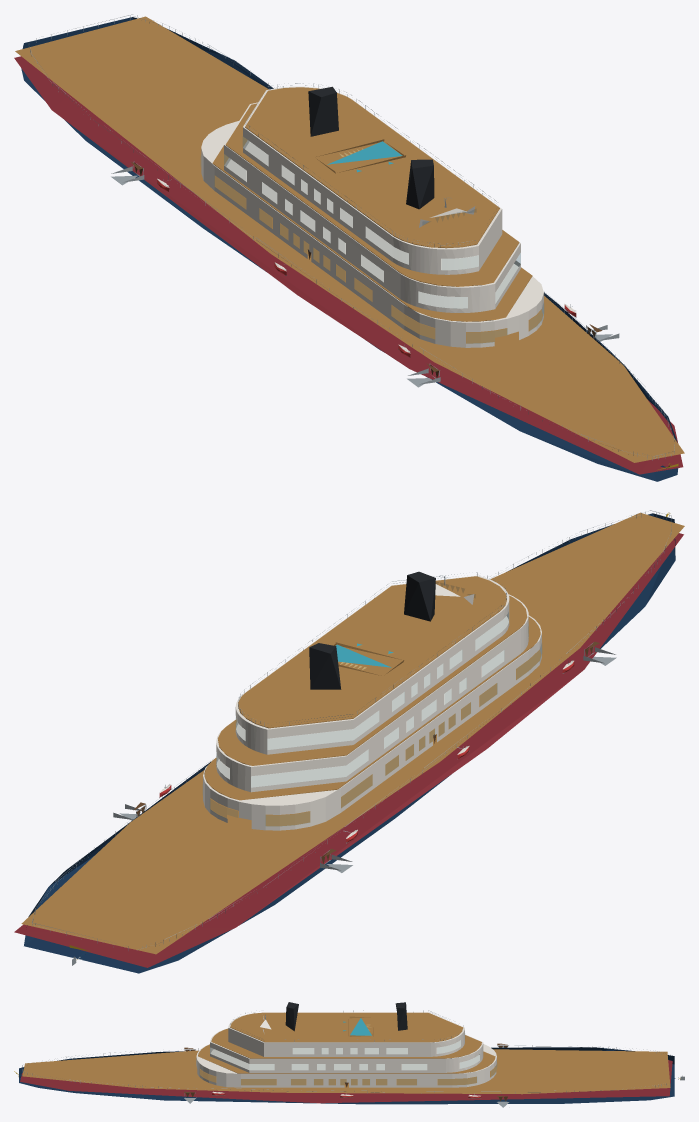
File: 169-Crucero_exterior.glb
The picture shows the model from 3 angles, top to bottom: view 1: azimuth 30°, elevation 25°; view 2: azimuth 150°, elevation 25°; view 3: azimuth 270°, elevation 25°; orthographic projection. The views are drawn at different scales.
Parts seen in each view (by area): view 1: SM_Crucero_Cubierta_1, SM_Crucero_Cubierta_4, SM_Crucero_Franja, SM_Crucero_Nivel_1, SM_Crucero_Nivel_2, SM_Crucero_Nivel_3, SM_Crucero_Casco, SM_Crucero_Cubierta_3, SM_Crucero_Cubierta_2, SM_Crucero_Ventanas_1, SM_Crucero_Ventanas_2, SM_Crucero_Ventanas_3 (+4 smaller); view 2: SM_Crucero_Cubierta_1, SM_Crucero_Cubierta_4, SM_Crucero_Franja, SM_Crucero_Nivel_2, SM_Crucero_Nivel_3, SM_Crucero_Nivel_1, SM_Crucero_Casco, SM_Crucero_Cubierta_3, SM_Crucero_Cubierta_2, SM_Crucero_Ventanas_2, SM_Crucero_Ventanas_3, SM_Crucero_Ventanas_1 (+3 smaller); view 3: SM_Crucero_Cubierta_1, SM_Crucero_Cubierta_4, SM_Crucero_Franja, SM_Crucero_Nivel_2, SM_Crucero_Nivel_1, SM_Crucero_Nivel_3, SM_Crucero_Casco, SM_Crucero_Cubierta_3, SM_Crucero_Ventanas_1, SM_Crucero_Ventanas_2, SM_Crucero_Cubierta_2, SM_Crucero_Ventanas_3 (+4 smaller).
Boxes of the visible parts, left/top/right/bottom form: SM_Crucero_Cubierta_1: left=15, top=16, right=684, bottom=462; SM_Crucero_Cubierta_4: left=245, top=87, right=499, bottom=248; SM_Crucero_Franja: left=14, top=56, right=683, bottom=474; SM_Crucero_Nivel_1: left=201, top=121, right=543, bottom=347; SM_Crucero_Nivel_2: left=224, top=102, right=520, bottom=312; SM_Crucero_Nivel_3: left=243, top=86, right=502, bottom=274; SM_Crucero_Casco: left=21, top=17, right=678, bottom=481; SM_Crucero_Cubierta_3: left=225, top=103, right=519, bottom=286; SM_Crucero_Cubierta_2: left=212, top=145, right=532, bottom=321; SM_Crucero_Ventanas_1: left=214, top=176, right=543, bottom=343; SM_Crucero_Ventanas_2: left=224, top=154, right=520, bottom=307; SM_Crucero_Ventanas_3: left=243, top=137, right=478, bottom=269; SM_Crucero_Cubierta_1: left=21, top=512, right=684, bottom=954; SM_Crucero_Cubierta_4: left=238, top=576, right=506, bottom=728; SM_Crucero_Franja: left=14, top=533, right=683, bottom=967; SM_Crucero_Nivel_2: left=216, top=594, right=528, bottom=792; SM_Crucero_Nivel_3: left=235, top=575, right=509, bottom=754; SM_Crucero_Nivel_1: left=203, top=615, right=541, bottom=830; SM_Crucero_Casco: left=24, top=513, right=675, bottom=973; SM_Crucero_Cubierta_3: left=218, top=595, right=527, bottom=765; SM_Crucero_Cubierta_2: left=204, top=616, right=540, bottom=800; SM_Crucero_Ventanas_2: left=216, top=626, right=528, bottom=786; SM_Crucero_Ventanas_3: left=236, top=613, right=508, bottom=749; SM_Crucero_Ventanas_1: left=210, top=646, right=541, bottom=825; SM_Crucero_Cubierta_1: left=22, top=1049, right=670, bottom=1094; SM_Crucero_Cubierta_4: left=230, top=1012, right=463, bottom=1042; SM_Crucero_Franja: left=20, top=1060, right=672, bottom=1103; SM_Crucero_Nivel_2: left=210, top=1028, right=483, bottom=1072; SM_Crucero_Nivel_1: left=196, top=1044, right=496, bottom=1087; SM_Crucero_Nivel_3: left=228, top=1012, right=464, bottom=1056; SM_Crucero_Casco: left=19, top=1047, right=674, bottom=1104; SM_Crucero_Cubierta_3: left=211, top=1028, right=481, bottom=1058; SM_Crucero_Ventanas_1: left=199, top=1066, right=496, bottom=1084; SM_Crucero_Ventanas_2: left=210, top=1048, right=479, bottom=1069; SM_Crucero_Cubierta_2: left=198, top=1044, right=495, bottom=1073; SM_Crucero_Ventanas_3: left=293, top=1041, right=460, bottom=1053.
Bounding box in the file's own units: 52.18 × 29.45 × 236.
